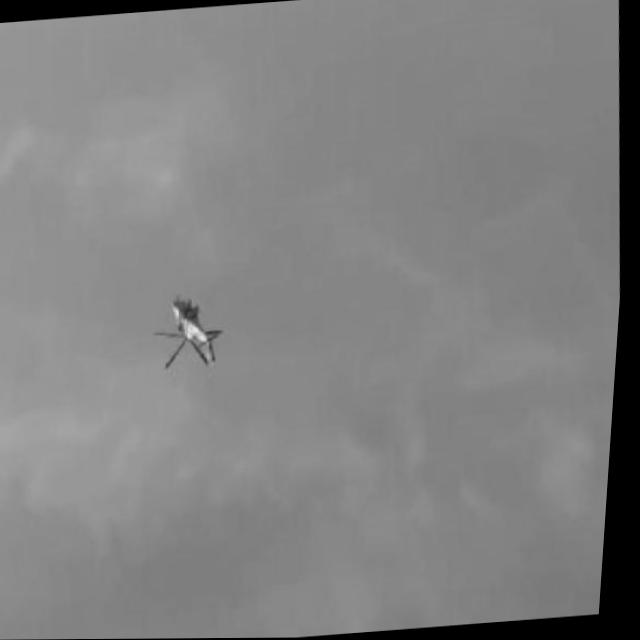helikopter: (152, 294, 229, 372)
